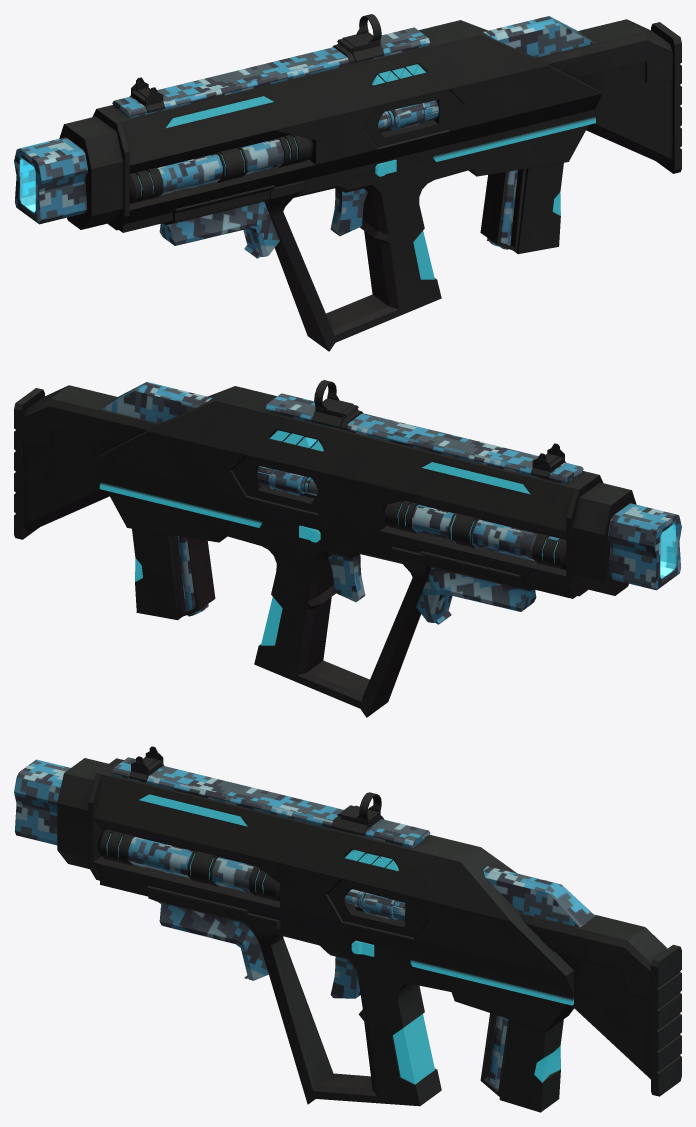
Rendered from smg3.fbx.
3 renders of one model, top to bottom at view 1: azimuth 30°, elevation 25°; view 2: azimuth 150°, elevation 25°; view 3: azimuth 330°, elevation 25°, orthographic.
Parts seen in each view (by area): view 1: Smg3, Smg3_Magazine, Smg3_Trigger; view 2: Smg3, Smg3_Magazine, Smg3_Trigger; view 3: Smg3, Smg3_Magazine, Smg3_Trigger.
Boxes of the visible parts, x1,y1,x2,y2 form: Smg3: [14, 14, 681, 351]; Smg3_Magazine: [480, 162, 563, 254]; Smg3_Trigger: [330, 188, 367, 236]; Smg3: [14, 380, 681, 717]; Smg3_Magazine: [132, 528, 215, 620]; Smg3_Trigger: [328, 554, 365, 602]; Smg3: [14, 746, 681, 1106]; Smg3_Magazine: [480, 1013, 563, 1112]; Smg3_Trigger: [330, 956, 360, 998].
Bounding box in the file's own units: 414 × 194 × 40.53.
